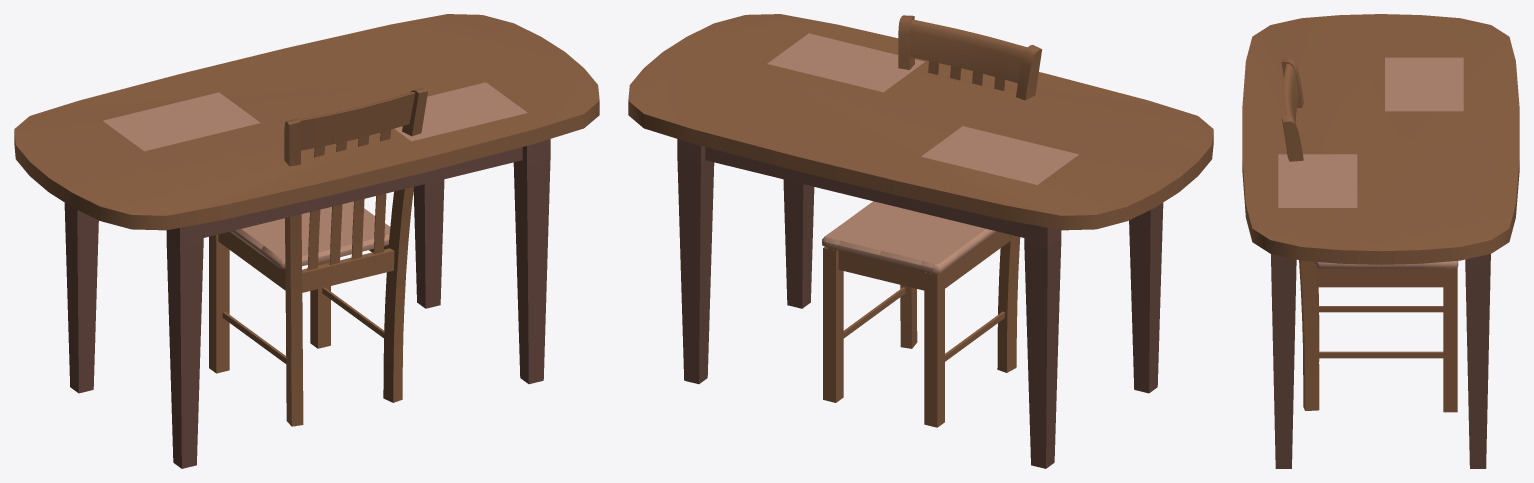
Rendered from Dinning set.fbx.
3 renders of one model, left to right at view 1: azimuth 30°, elevation 25°; view 2: azimuth 150°, elevation 25°; view 3: azimuth 270°, elevation 25°, orthographic. The views are drawn at different scales.
Visible parts, largest first — view 1: model_1.001, model_1.002; view 2: model_1.001, model_1.002; view 3: model_1.001, model_1.002.
Boxes of the visible parts, <box> form: model_1.001: <box>14,14,599,468</box>; model_1.002: <box>209,88,427,426</box>; model_1.001: <box>628,14,1213,468</box>; model_1.002: <box>822,15,1042,427</box>; model_1.001: <box>1242,14,1519,468</box>; model_1.002: <box>1281,58,1458,412</box>.
Bounding box in the file's own units: 301 × 176 × 149.
